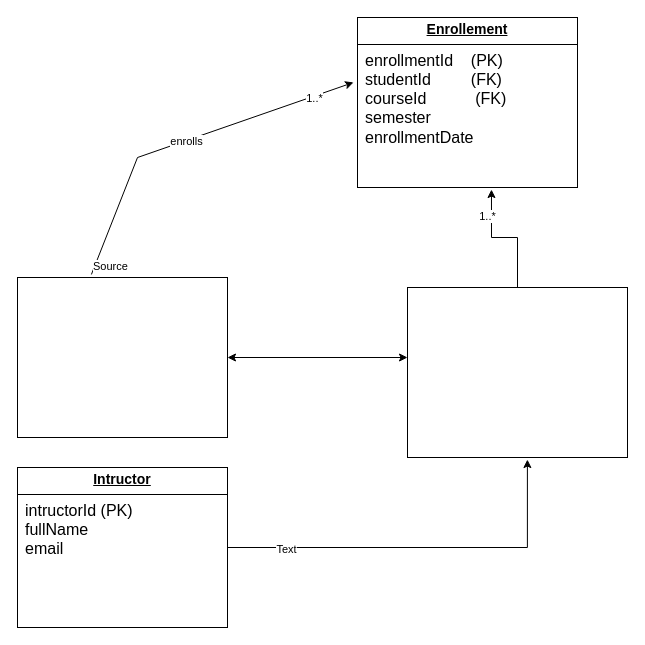
Some shapes in this 645 by 645 pixel diagram are drawn without their labels. Each missing label, with the box of its shape:
Course courseId (PK) courseName courseCode credits instructorId (FK): (406, 286, 628, 458)
Student studentId (PK) fullName email dateOfBirth: (16, 276, 228, 438)
